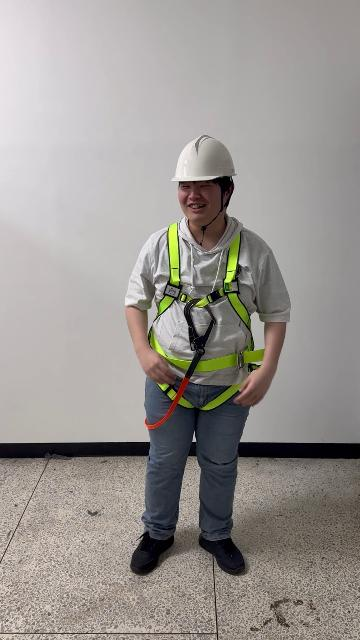helmet_worn: (171, 134, 239, 182)
shoe_not_worn: (198, 532, 245, 575), (130, 531, 174, 575)
vest_worn: (146, 224, 263, 409)
